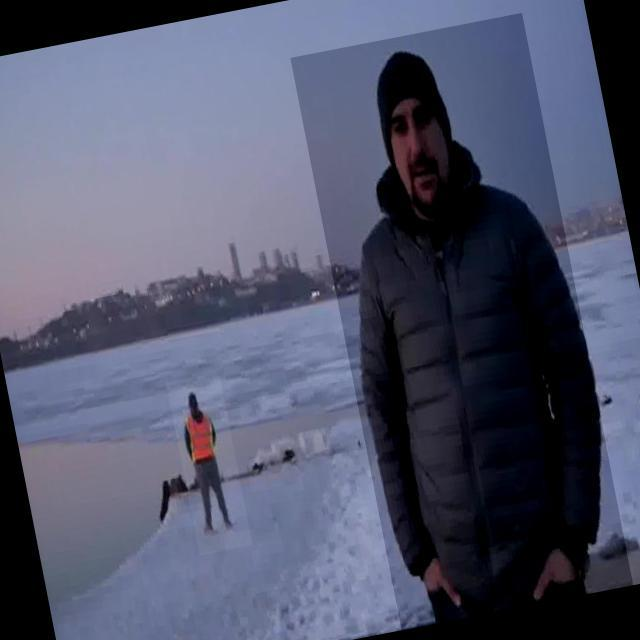Person: (308, 24, 622, 630), (163, 369, 250, 544)
Safety Boot: (218, 505, 238, 533), (199, 515, 218, 535)
Safety Vest: (182, 410, 221, 467)
bare-arms: (523, 529, 588, 623), (415, 548, 468, 619)
no-helmet: (370, 40, 455, 124), (183, 387, 201, 407)
no-vest: (353, 142, 607, 614)
